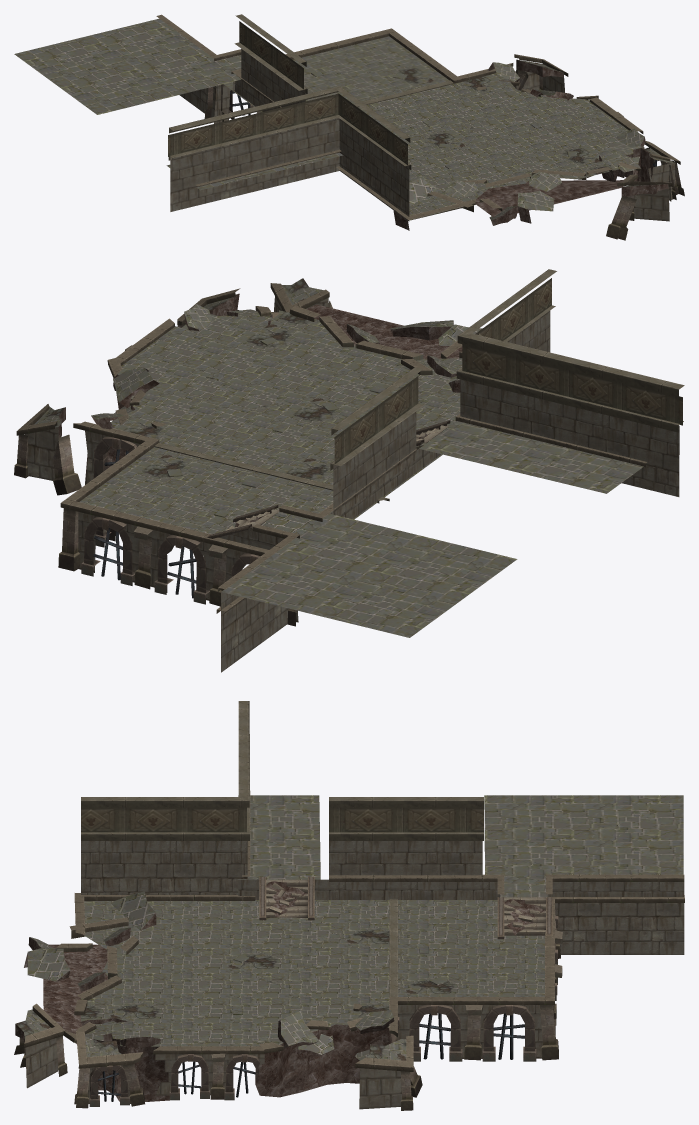
The model's file is terrain_yewai_section01_guanka04.FBX.
3 views of the same model, one above another, from view 1: azimuth 30°, elevation 25°; view 2: azimuth 150°, elevation 25°; view 3: azimuth 270°, elevation 25° (orthographic). The views are drawn at different scales.
Visible parts, largest first — view 1: terrain_yewai_section01_guanka04; view 2: terrain_yewai_section01_guanka04; view 3: terrain_yewai_section01_guanka04.
Boxes of the visible parts, <box> form: terrain_yewai_section01_guanka04: <box>14,14,684,240</box>; terrain_yewai_section01_guanka04: <box>14,269,684,672</box>; terrain_yewai_section01_guanka04: <box>14,701,684,1110</box>.
Bounding box in the file's own units: 68.89 × 74.7 × 19.25.
